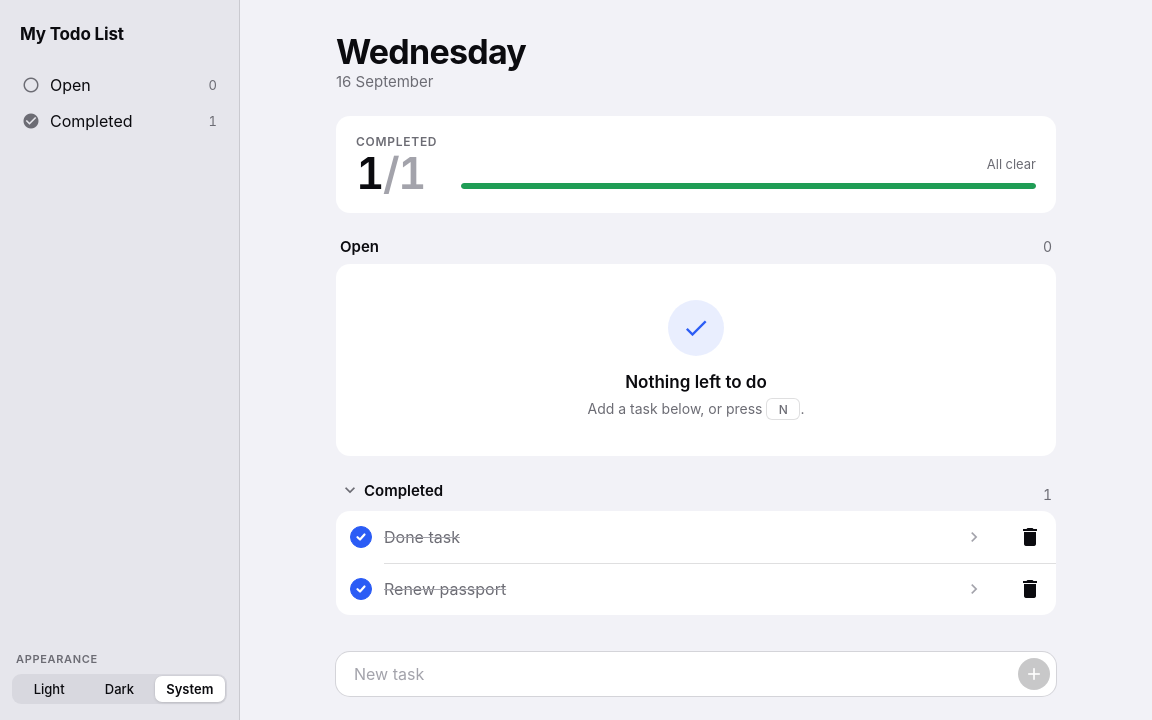
TodoHomeComponent › template › should collapse and expand the completed tasks
Step 1. Click the button with class "section__toggle" → (392, 490), box [340, 480, 443, 500]
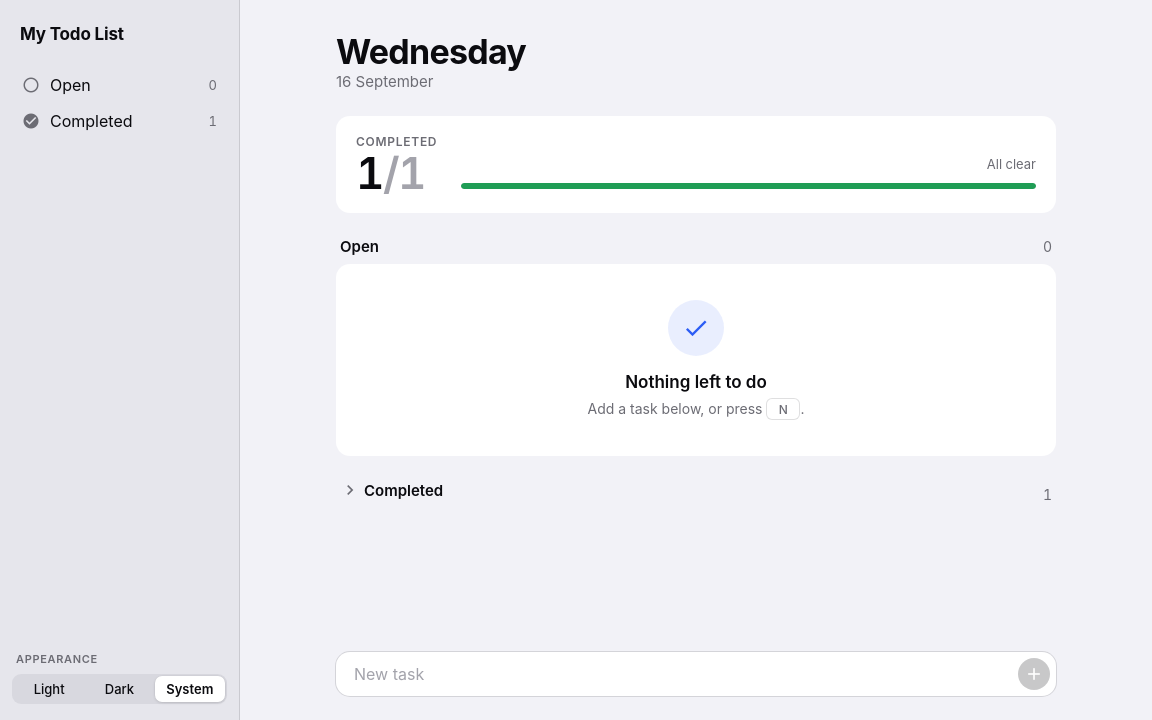
expect the button with class "section__toggle" is collapsed: met, box [340, 480, 443, 500]
